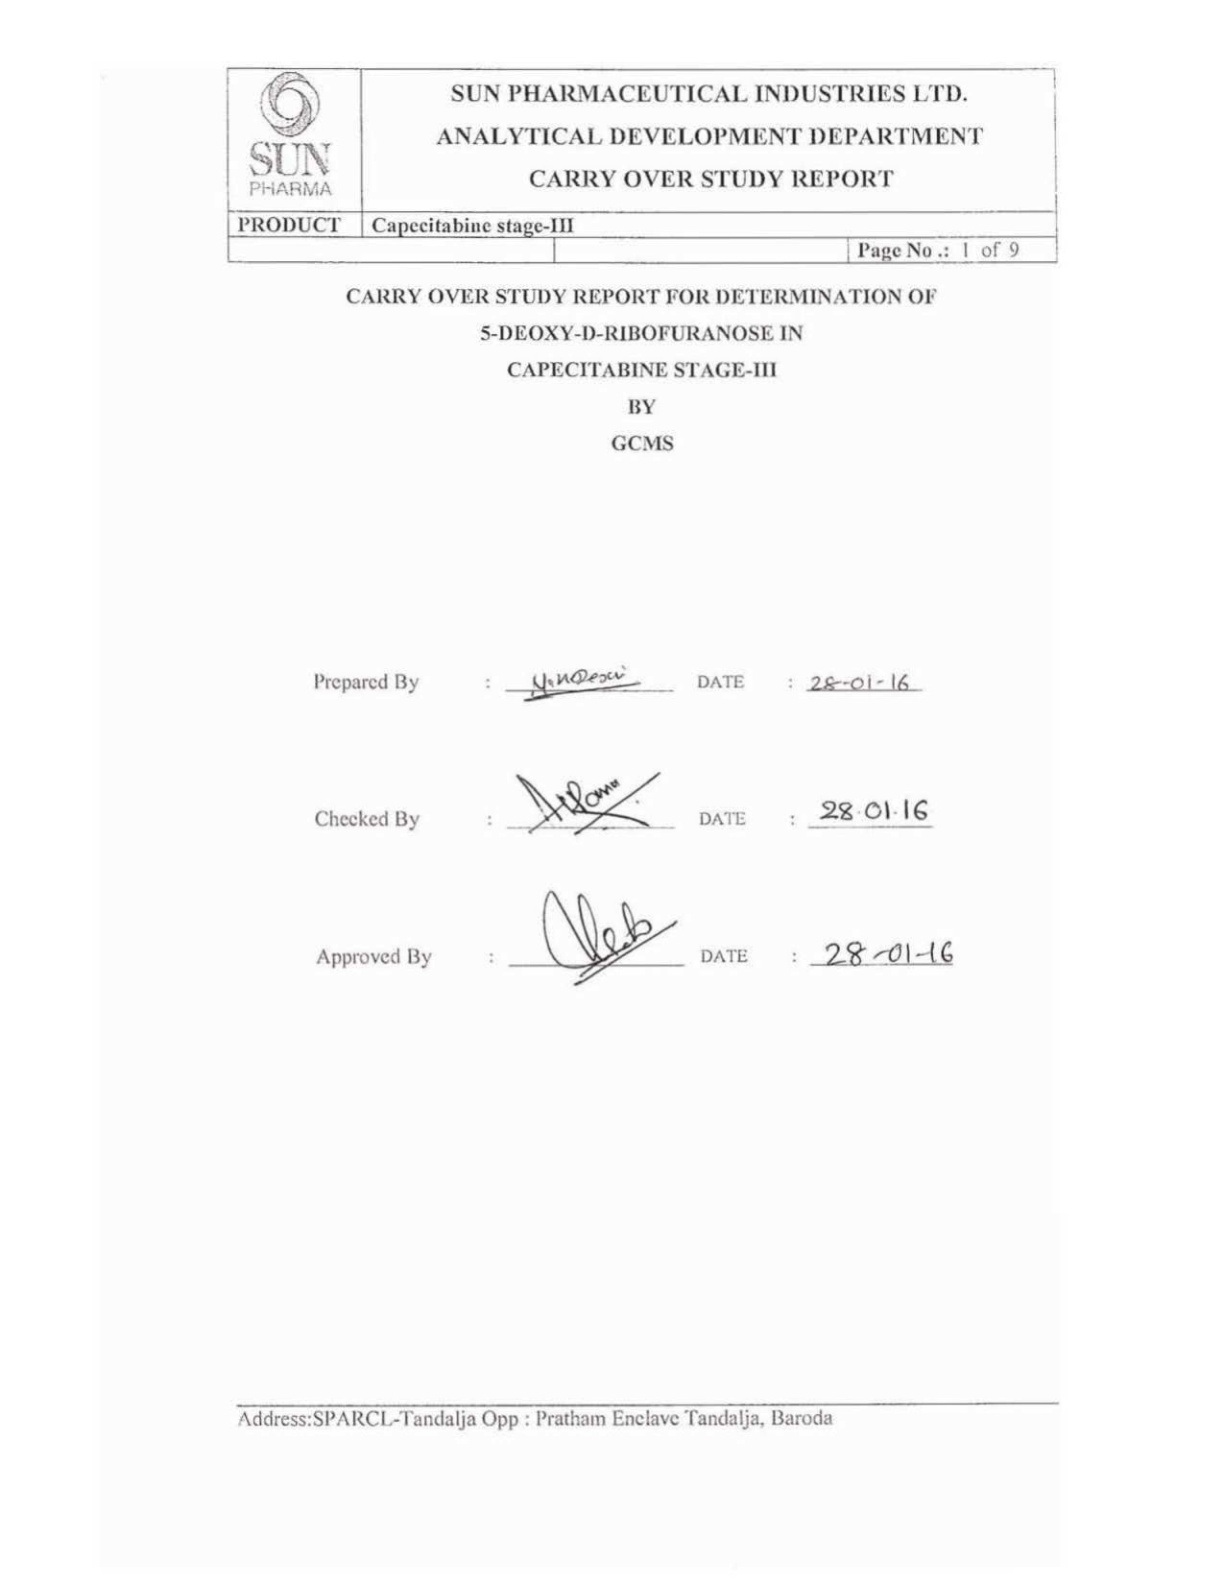merged_cells: (224, 66, 1059, 265)
nolines: (309, 667, 966, 990)
